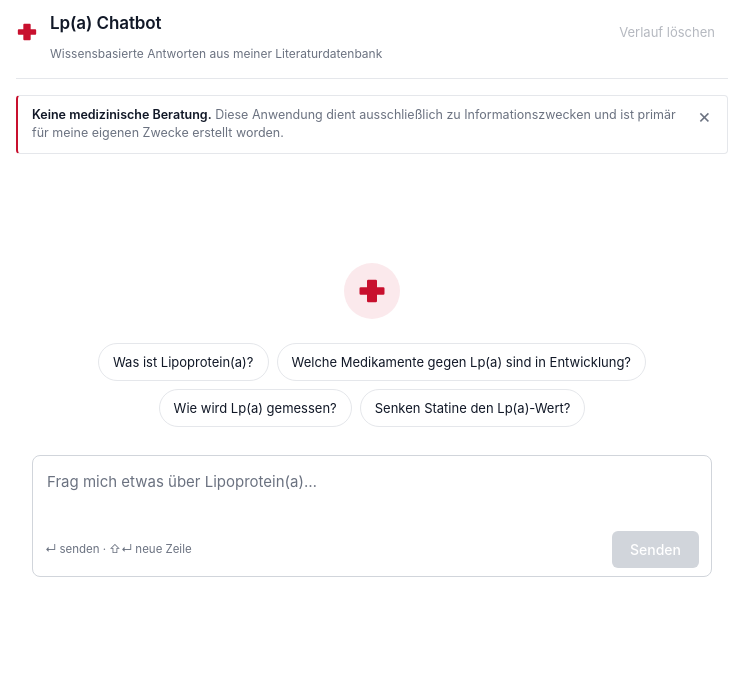
it: App › sends a message, streams events, persists the result
Type "Was ist Lp(a)?" into the text box with placeholder "Frag mich etwas über Lipoprotein(a)…" at (372, 493), box 45,466 -> 699,520
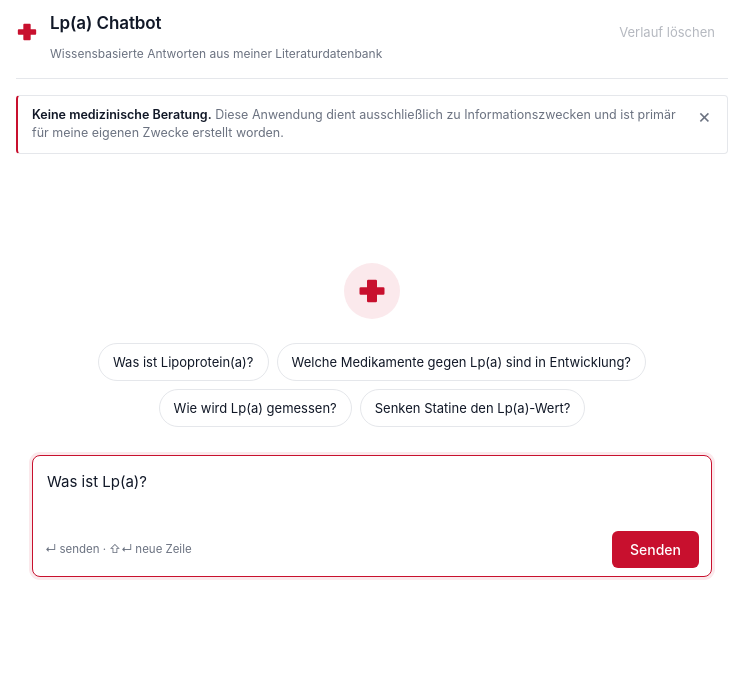
Click the button "Senden" at (656, 550), box 612,531 -> 699,568
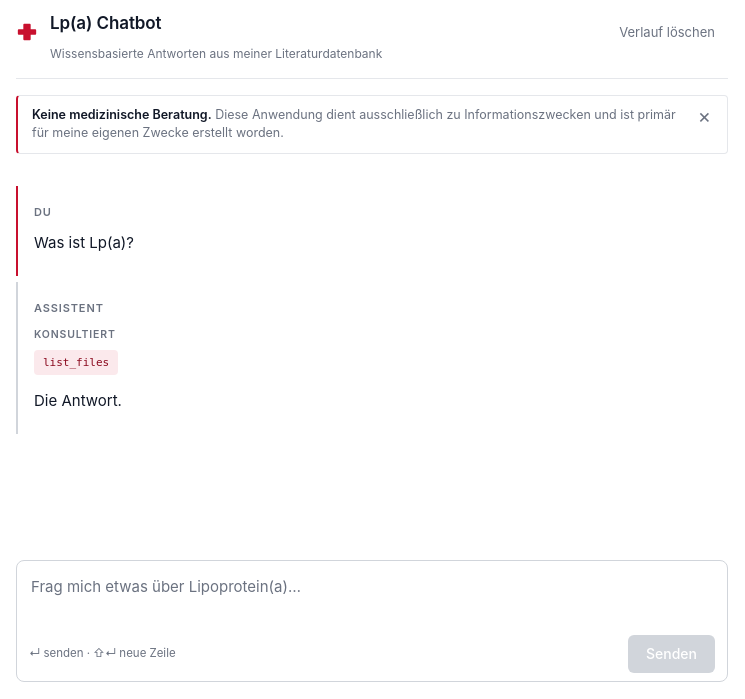
Check: the text "Die Antwort." is shown, box 34,391 -> 122,410
Check: the text "Was ist Lp(a)?" is shown, box 34,233 -> 134,252
